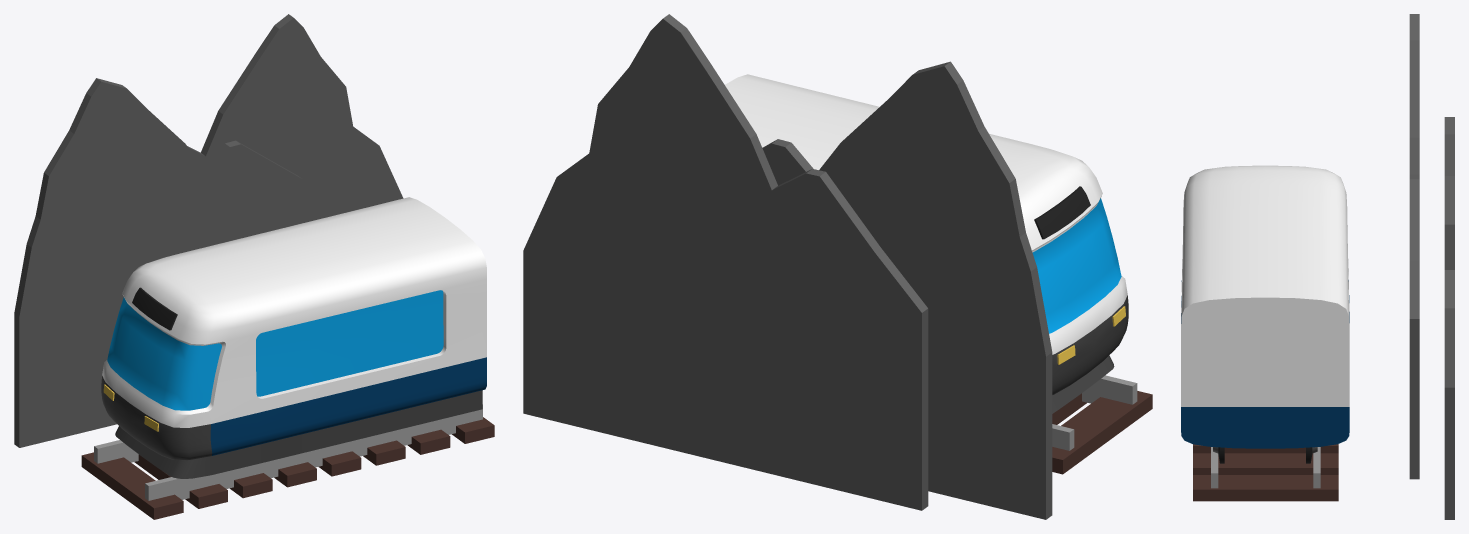
Rendered from mountain_railway.gltf.
The picture shows the model from 3 angles, left to right: view 1: azimuth 30°, elevation 25°; view 2: azimuth 150°, elevation 25°; view 3: azimuth 270°, elevation 25°; orthographic projection. The views are drawn at different scales.
Parts seen in each view (by area): view 1: Cube.598, Plane.230, Cube.597, Cube.596; view 2: Plane.230, Cube.598, Cube.597, Cube.596; view 3: Cube.598, Plane.230, Cube.597, Cube.596.
Boxes of the visible parts, bbox=[...] form: Cube.598: bbox=[101, 197, 486, 478]; Plane.230: bbox=[14, 14, 403, 447]; Cube.597: bbox=[81, 417, 494, 519]; Cube.596: bbox=[94, 404, 482, 500]; Plane.230: bbox=[523, 14, 1052, 519]; Cube.598: bbox=[725, 74, 1128, 413]; Cube.597: bbox=[1052, 391, 1152, 474]; Cube.596: bbox=[1052, 375, 1137, 450]; Cube.598: bbox=[1181, 165, 1349, 448]; Plane.230: bbox=[1409, 14, 1454, 519]; Cube.597: bbox=[1193, 444, 1338, 501]; Cube.596: bbox=[1211, 447, 1320, 488].
Bounding box in the file's own units: 2.69 × 2.2 × 1.57.
Materials: 1 (1 with a texture image).
